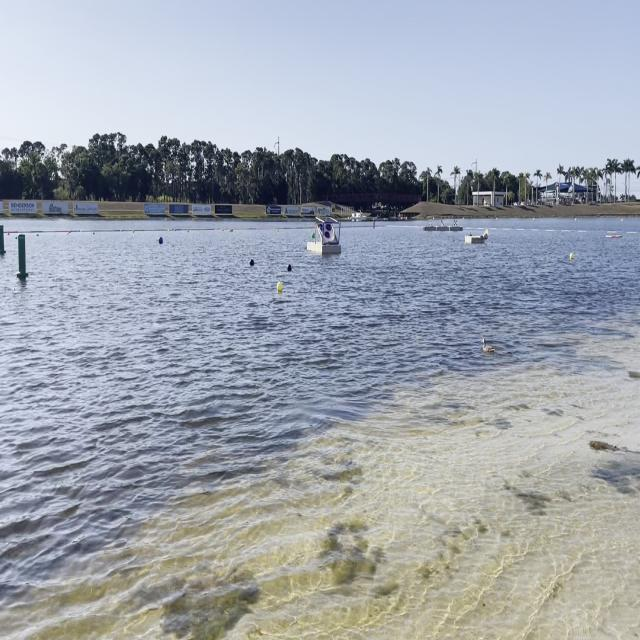buoy: (276, 281, 283, 292), (286, 263, 292, 272), (249, 258, 254, 268), (158, 237, 164, 245), (310, 232, 316, 239), (570, 252, 574, 258)
